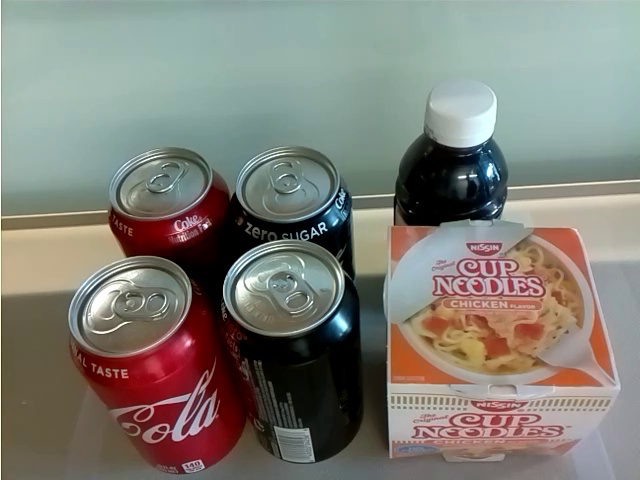cocacola: (65, 255, 248, 480), (106, 143, 231, 271)
cocacola-zero: (221, 239, 366, 467), (231, 146, 353, 282)
juice: (392, 76, 509, 224)
noodles: (383, 225, 619, 467)
